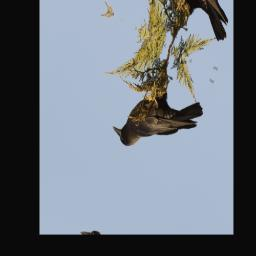Crow: (108, 58, 207, 183)
